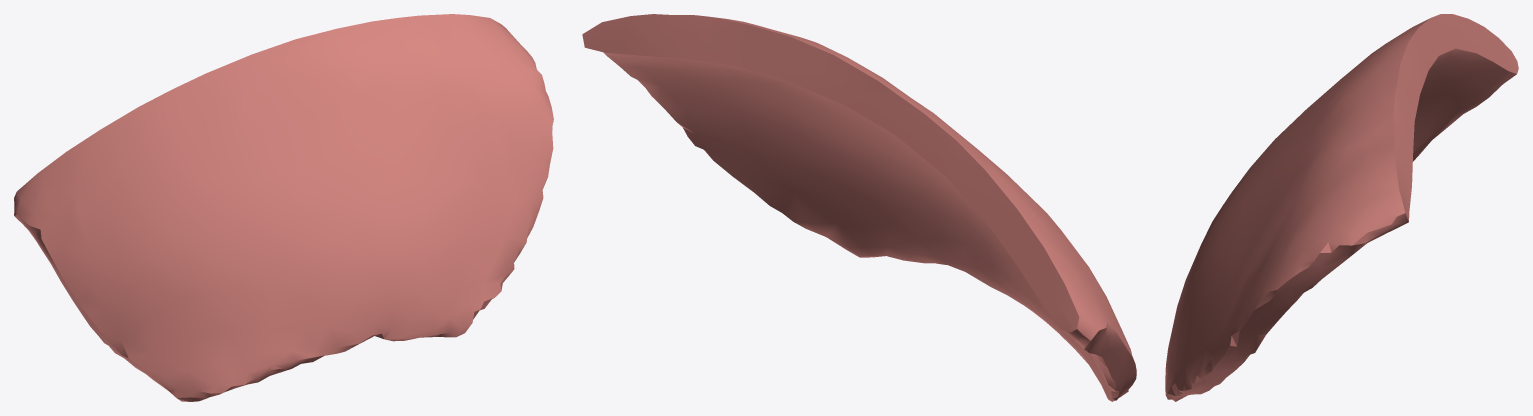
Rendered from fma54159-f_mm2217m.glb.
3 renders of one model, left to right at view 1: azimuth 30°, elevation 25°; view 2: azimuth 150°, elevation 25°; view 3: azimuth 270°, elevation 25°, orthographic. The views are drawn at different scales.
Visible parts, largest first — view 1: FMA54159-F_MM2217M; view 2: FMA54159-F_MM2217M; view 3: FMA54159-F_MM2217M.
Boxes of the visible parts, x1=… form: FMA54159-F_MM2217M: x1=14, y1=14, x2=553, y2=401; FMA54159-F_MM2217M: x1=582, y1=14, x2=1136, y2=401; FMA54159-F_MM2217M: x1=1165, y1=14, x2=1518, y2=401.
Bounding box in the file's own units: 0.02 × 0.0117 × 0.0104.
